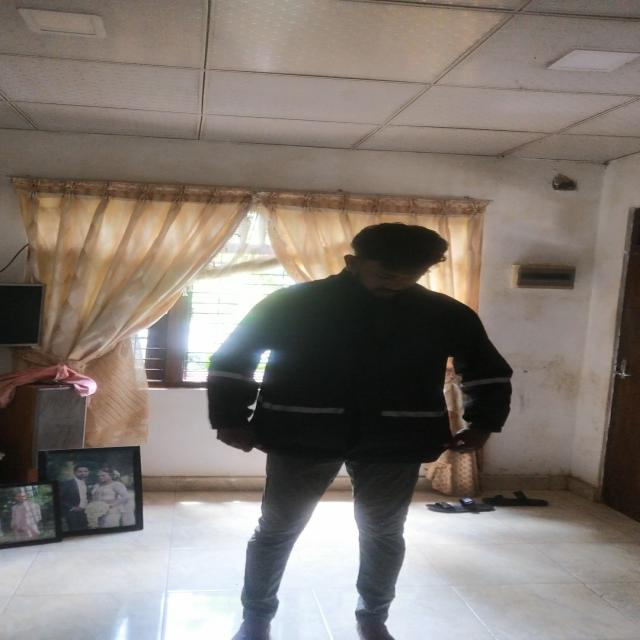Jacket_Wearer: (202, 276, 517, 471)
Person: (200, 214, 517, 640)
